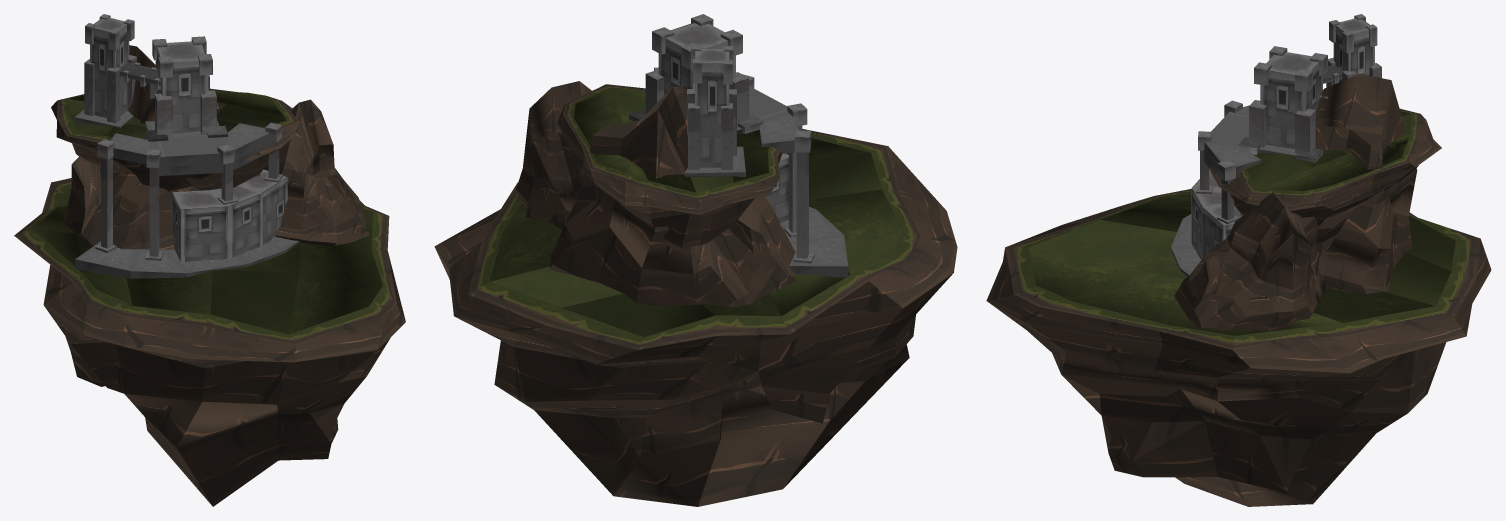
3 views of the same model, side by side, from view 1: azimuth 30°, elevation 25°; view 2: azimuth 150°, elevation 25°; view 3: azimuth 270°, elevation 25° (orthographic). The views are drawn at different scales.
Visible parts, largest first — view 1: land_013, Box257, land_015, land_017, land_018; view 2: land_013, land_018, Box257, land_017, land_015; view 3: land_013, Box257, land_015, land_018, land_017.
Boxes of the visible parts, x1,y1,x2,y2 form: land_013: [14, 178, 405, 506]; Box257: [74, 14, 299, 278]; land_015: [264, 99, 369, 245]; land_017: [51, 88, 300, 191]; land_018: [64, 45, 198, 249]; land_013: [434, 129, 957, 506]; land_018: [550, 86, 796, 306]; Box257: [629, 14, 848, 277]; land_017: [557, 84, 781, 252]; land_015: [516, 81, 591, 229]; land_013: [986, 189, 1491, 506]; Box257: [1171, 14, 1381, 276]; land_015: [1174, 192, 1327, 330]; land_018: [1315, 74, 1417, 293]; land_017: [1210, 108, 1441, 258].
Size of the model in its own units: 468 by 553 by 562.
